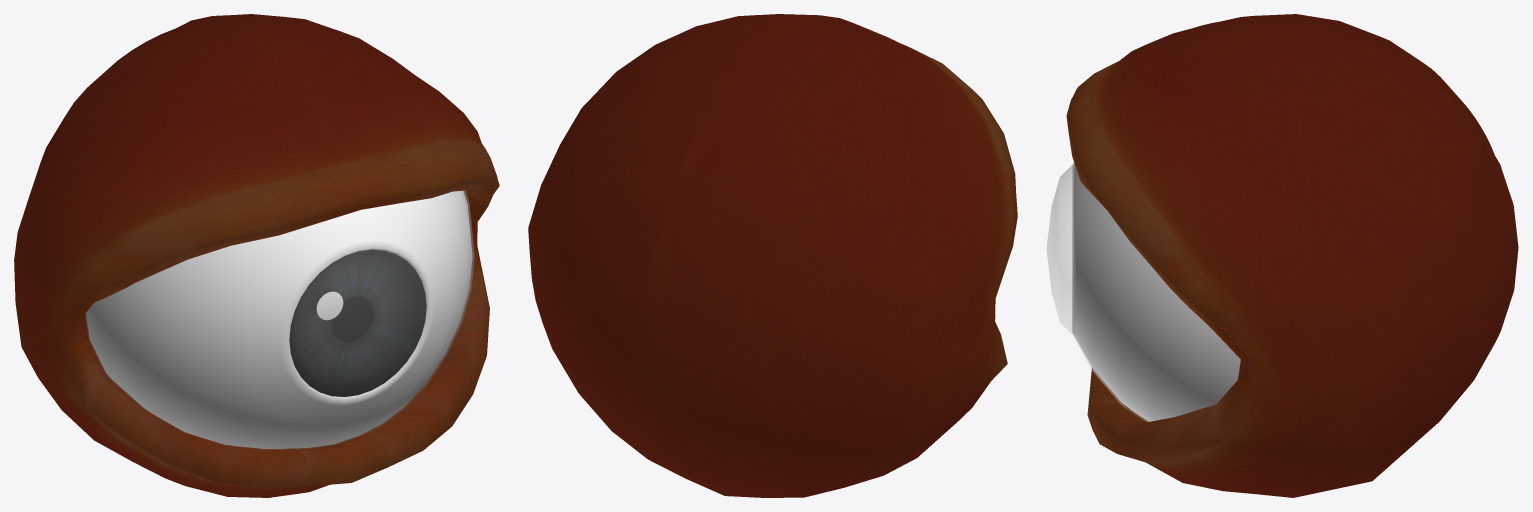
File: cartoon_eye.glb
3 views of the same model, side by side, from view 1: azimuth 30°, elevation 25°; view 2: azimuth 150°, elevation 25°; view 3: azimuth 270°, elevation 25° (orthographic).
Visible parts, largest first — view 1: Object_4, Object_2, Object_5, Object_3; view 2: Object_4; view 3: Object_4, Object_2, Object_5.
Boxes of the visible parts, box(x1,y1,x2,y2) form: Object_4: box(14, 14, 499, 497); Object_2: box(85, 190, 474, 449); Object_5: box(85, 190, 472, 448); Object_3: box(289, 249, 426, 396); Object_4: box(528, 14, 1017, 497); Object_4: box(1066, 14, 1518, 497); Object_2: box(1046, 163, 1240, 421); Object_5: box(1072, 163, 1240, 421).
Size of the model in its own units: 0.2293 by 0.2258 by 0.2187.
Materials: 4 (2 with a texture image).
